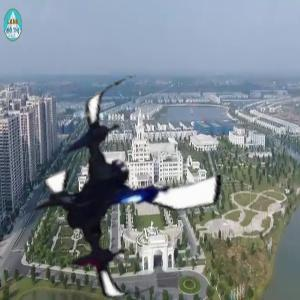drone: (18, 78, 241, 300)
